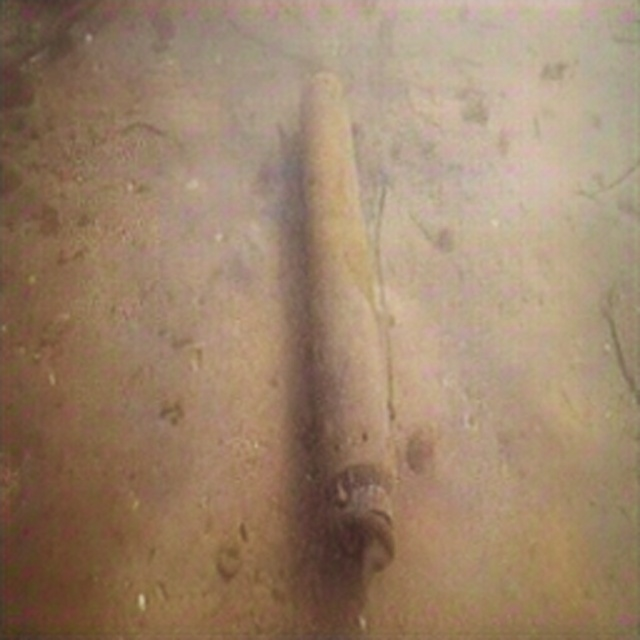mine: (300, 72, 398, 576)
